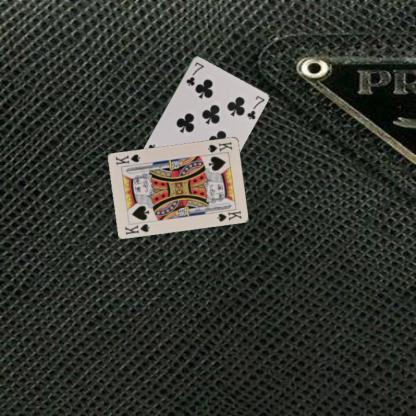7c: (183, 59, 205, 87)
Ks: (205, 138, 234, 154), (122, 221, 151, 236)
